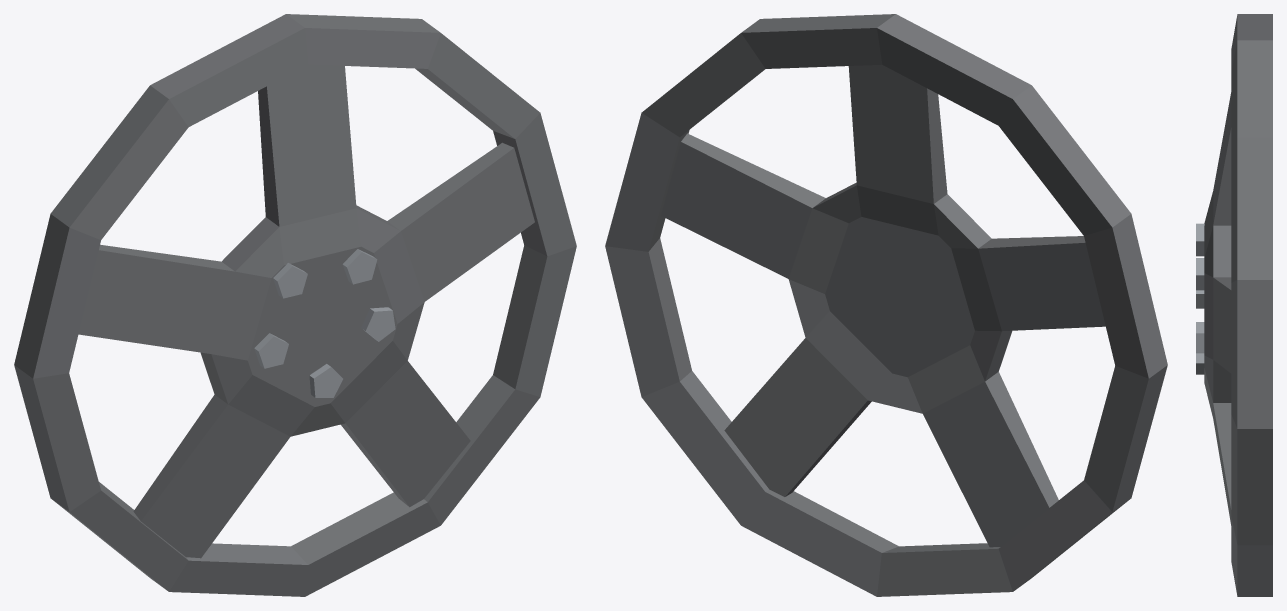
The model's file is SM_Prop_HubCap_02.fbx.
3 renders of one model, left to right at view 1: azimuth 30°, elevation 25°; view 2: azimuth 150°, elevation 25°; view 3: azimuth 270°, elevation 25°, orthographic. The views are drawn at different scales.
Parts seen in each view (by area): view 1: SM_Prop_HubCap_02; view 2: SM_Prop_HubCap_02; view 3: SM_Prop_HubCap_02.
Part boxes in pixels (x1,y1,x2,y2): SM_Prop_HubCap_02: (14, 14, 576, 596); SM_Prop_HubCap_02: (605, 14, 1167, 596); SM_Prop_HubCap_02: (1196, 14, 1272, 596).
Bounding box in the file's own units: 48.96 × 48.96 × 6.42.
